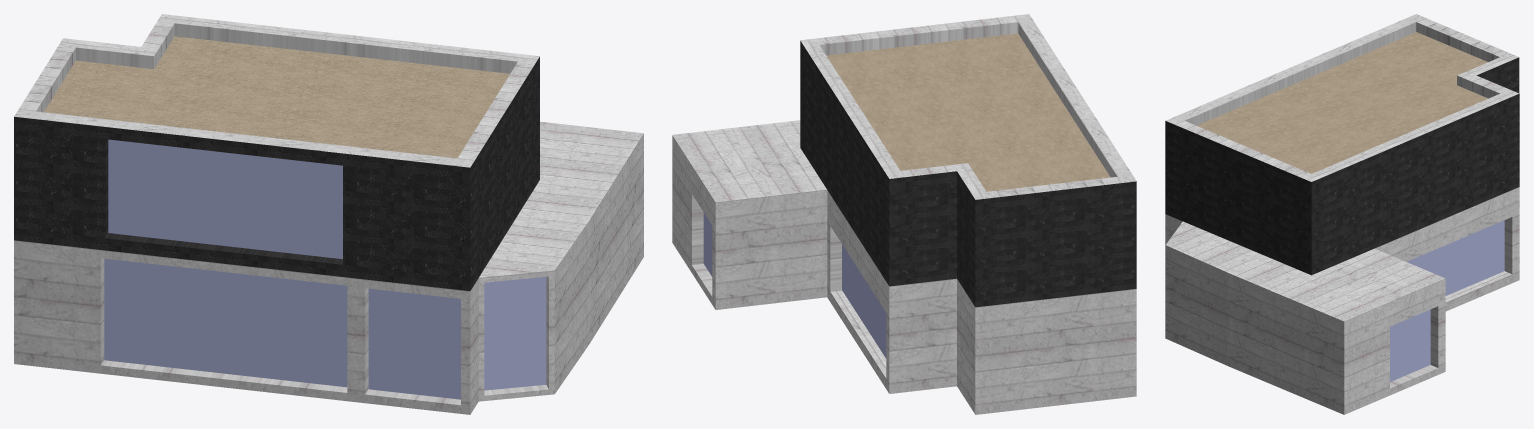
3 views of the same model, side by side, from view 1: azimuth 30°, elevation 25°; view 2: azimuth 150°, elevation 25°; view 3: azimuth 270°, elevation 25° (orthographic). The views are drawn at different scales.
Parts seen in each view (by area): view 1: Cube.015; view 2: Cube.015; view 3: Cube.015.
Boxes of the visible parts, x1,y1,x2,y2 form: Cube.015: (14,14,643,414); Cube.015: (672,14,1136,414); Cube.015: (1165,14,1519,414).
Size of the model in its own units: 27.42 by 11.13 by 19.14.
4 materials, 3 textured.
